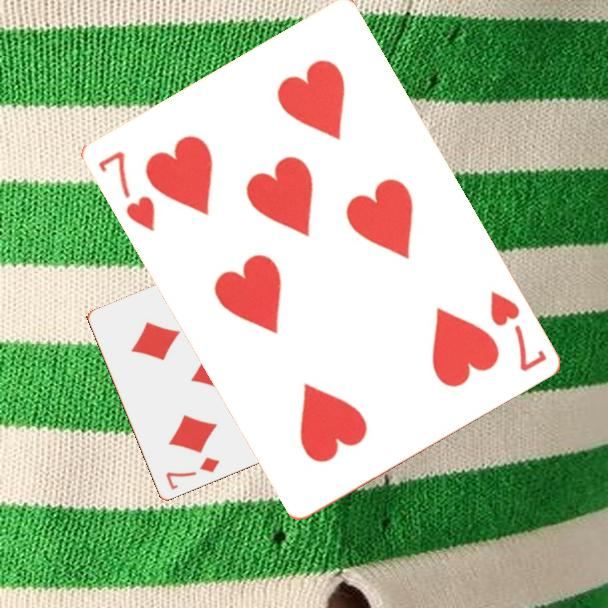d07: (162, 454, 222, 493)
h07: (93, 147, 158, 235), (485, 287, 549, 375)
